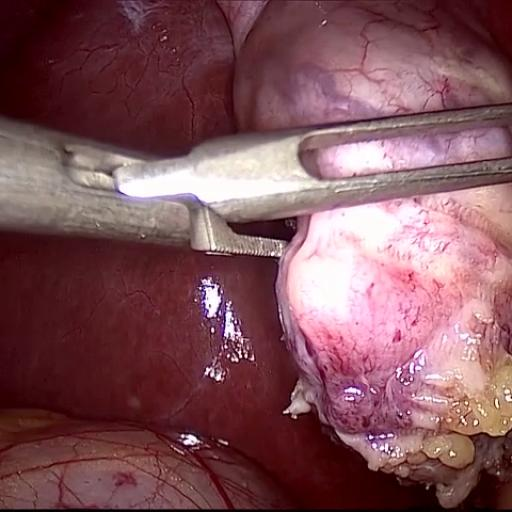Grasper: (106, 74, 512, 278)
